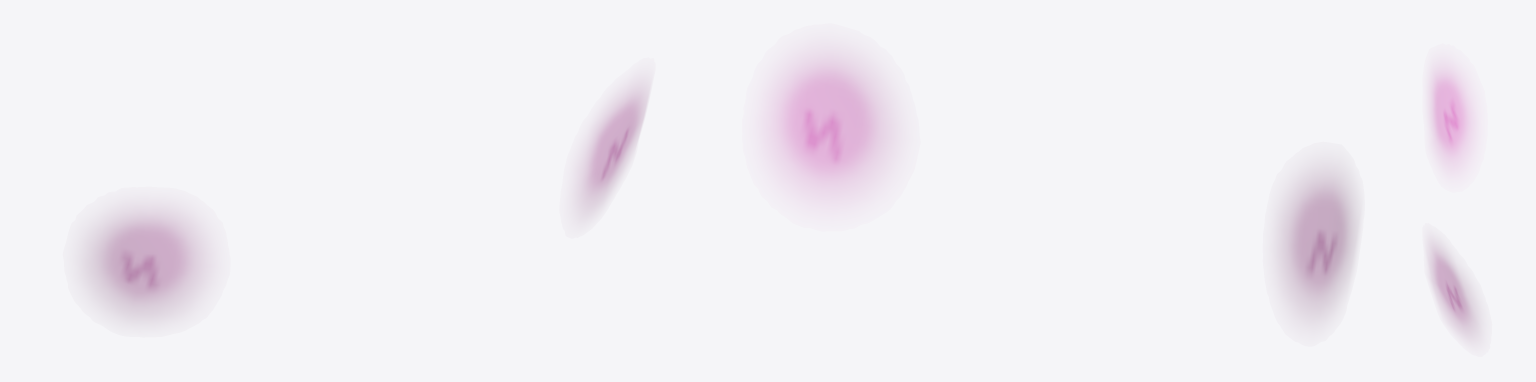
Rendered from Cheeks 2.glb.
3 views of the same model, side by side, from view 1: azimuth 30°, elevation 25°; view 2: azimuth 150°, elevation 25°; view 3: azimuth 270°, elevation 25° (orthographic). The views are drawn at different scales.
Visible parts, largest first — view 1: Cheeks_2; view 2: Cheeks_2; view 3: Cheeks_2.
Boxes of the visible parts, x1,y1,x2,y2 form: Cheeks_2: (87,86,647,316); Cheeks_2: (767,54,1354,314); Cheeks_2: (1429,66,1477,336).
Bounding box in the file's own units: 0.00587 × 0.00202 × 0.00121.
Materials: 1 (1 with a texture image).
